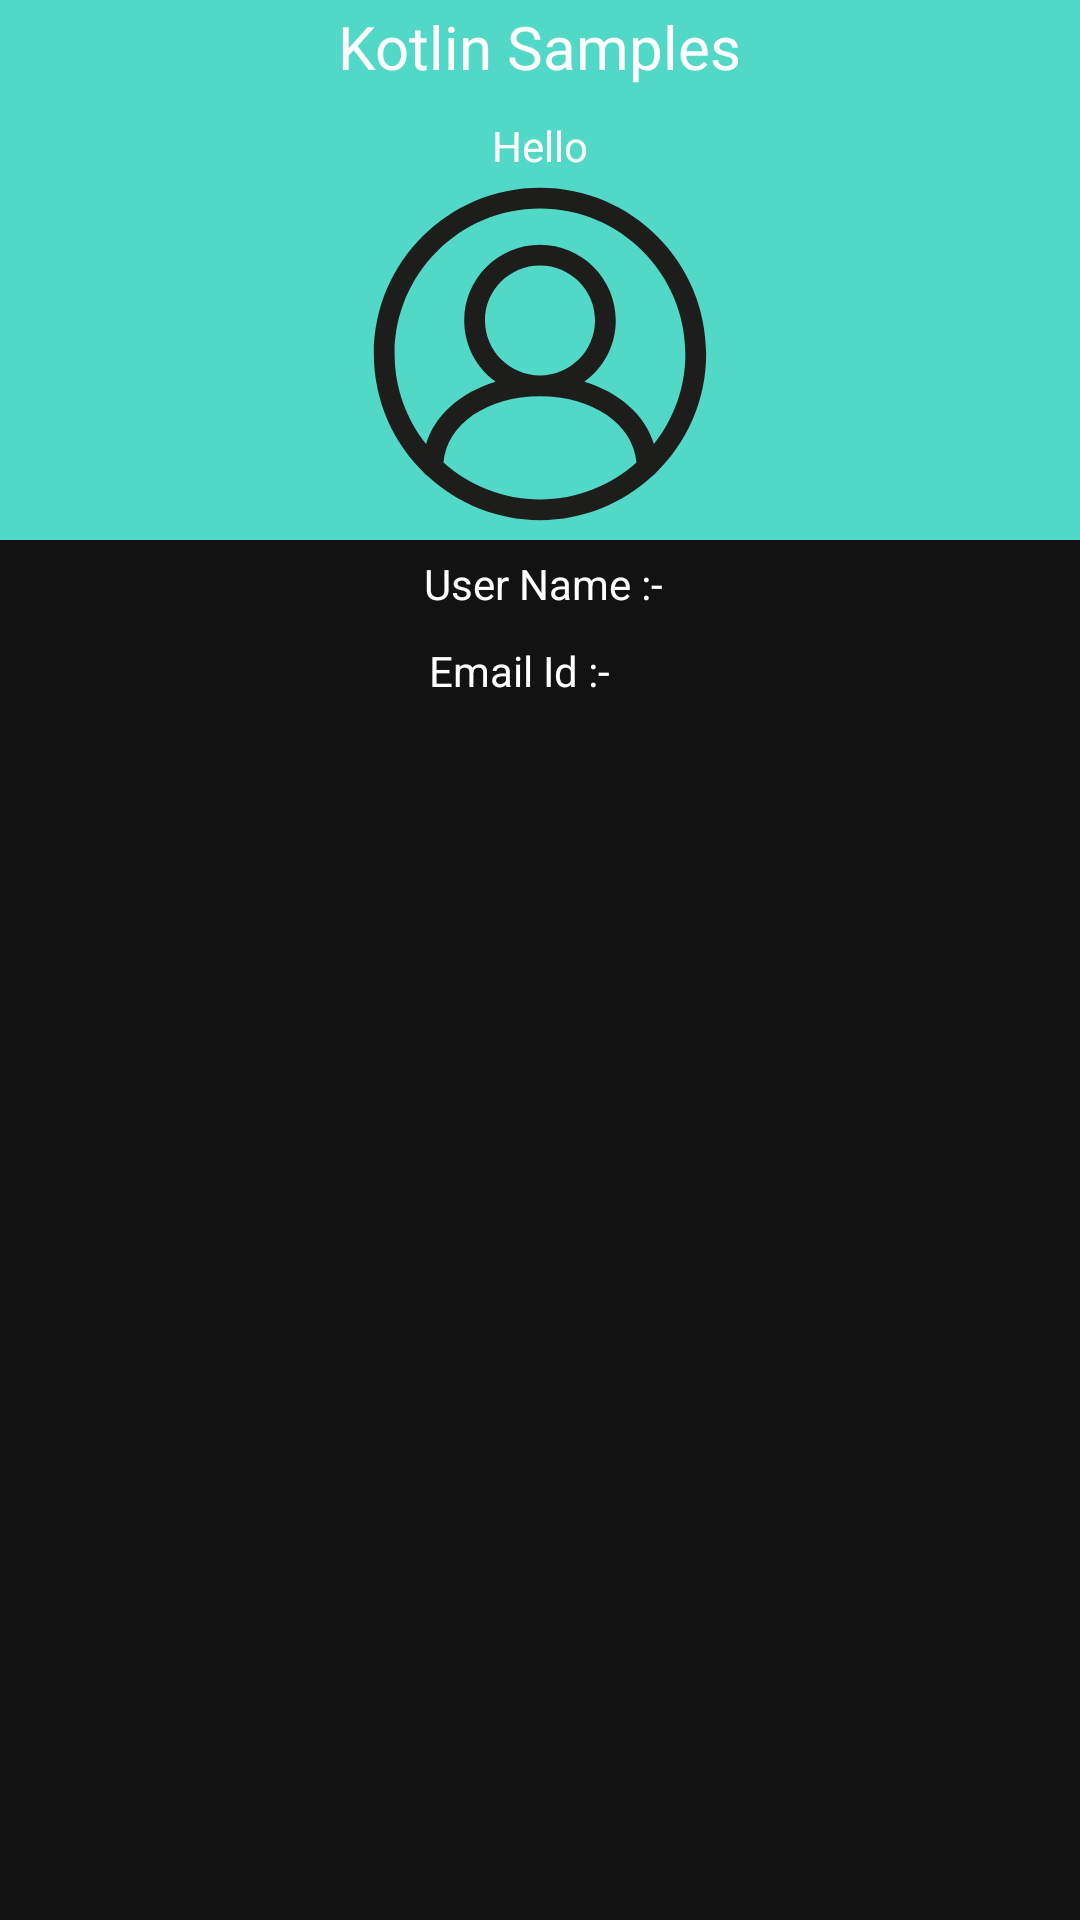

Icon click points for this 1080w x 1920h phone screenshot, format point (x, y):
profile: point (540, 354)
